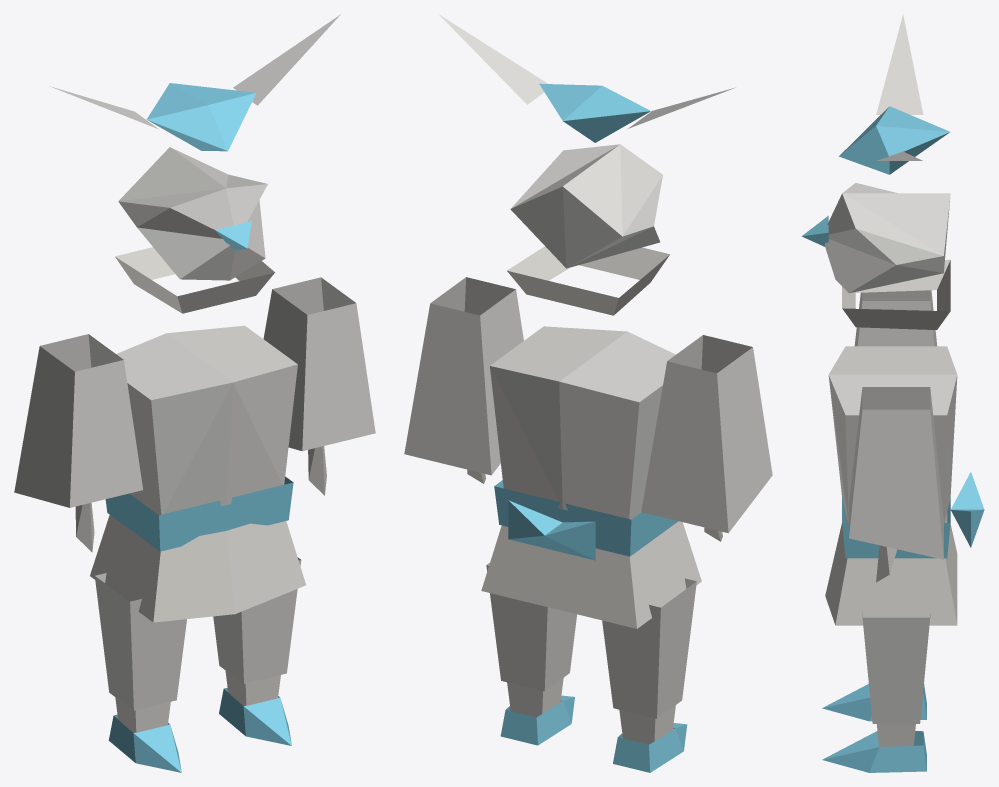
File: origami-person.glb
3 views of the same model, side by side, from view 1: azimuth 30°, elevation 25°; view 2: azimuth 150°, elevation 25°; view 3: azimuth 270°, elevation 25° (orthographic). The views are drawn at different scales.
Parts seen in each view (by area): view 1: OrigamiTorso, OrigamiSleeve_L, OrigamiSkirt, OrigamiSleeve_R, OrigamiHead, OrigamiPant_L, OrigamiSash, OrigamiPant_R, OrigamiCrane_Body, OrigamiCollar, OrigamiShoe_L, OrigamiShoe_R (+6 smaller); view 2: OrigamiTorso, OrigamiSleeve_L, OrigamiSleeve_R, OrigamiSkirt, OrigamiHead, OrigamiPant_L, OrigamiPant_R, OrigamiCollar, OrigamiSash, OrigamiCrane_Body, OrigamiKnot, OrigamiShoe_L (+4 smaller); view 3: OrigamiSleeve_R, OrigamiHead, OrigamiTorso, OrigamiSkirt, OrigamiPant_R, OrigamiCrane_Body, OrigamiCollar, OrigamiSleeve_L, OrigamiShoe_R, OrigamiWing_L, OrigamiKnot, OrigamiSash (+4 smaller).
Boxes of the visible parts, box(x1,y1,x2,y2) form: OrigamiTorso: box(116, 325, 297, 515); OrigamiSleeve_L: box(14, 334, 142, 507); OrigamiSkirt: box(90, 515, 305, 622); OrigamiSleeve_R: box(263, 277, 375, 451); OrigamiHead: box(118, 147, 267, 280); OrigamiPant_L: box(94, 573, 186, 710); OrigamiSash: box(105, 476, 293, 551); OrigamiPant_R: box(213, 557, 301, 683); OrigamiCrane_Body: box(146, 83, 256, 151); OrigamiCollar: box(115, 247, 274, 313); OrigamiShoe_L: box(108, 714, 181, 772); OrigamiShoe_R: box(219, 687, 291, 745); OrigamiTorso: box(490, 326, 675, 519); OrigamiSleeve_L: box(641, 335, 772, 533); OrigamiSleeve_R: box(404, 277, 523, 475); OrigamiSkirt: box(481, 521, 701, 628); OrigamiHead: box(510, 144, 662, 268); OrigamiPant_L: box(602, 578, 696, 718); OrigamiPant_R: box(486, 562, 576, 691); OrigamiCollar: box(507, 246, 669, 315); OrigamiSash: box(494, 480, 678, 556); OrigamiCrane_Body: box(539, 83, 650, 142); OrigamiKnot: box(508, 500, 595, 560); OrigamiShoe_L: box(613, 723, 687, 772); OrigamiSleeve_R: box(849, 387, 943, 559); OrigamiHead: box(825, 183, 950, 293); OrigamiTorso: box(828, 346, 957, 522); OrigamiSkirt: box(825, 512, 957, 625); OrigamiPant_R: box(862, 612, 930, 723); OrigamiCrane_Body: box(839, 106, 949, 174); OrigamiCollar: box(842, 259, 950, 329); OrigamiSleeve_L: box(854, 290, 937, 346); OrigamiShoe_R: box(822, 731, 926, 772); OrigamiWing_L: box(876, 14, 923, 114); OrigamiKnot: box(950, 472, 984, 547); OrigamiSash: box(842, 494, 950, 558).
Size of the model in its own units: 1.04 by 2.13 by 0.54.
